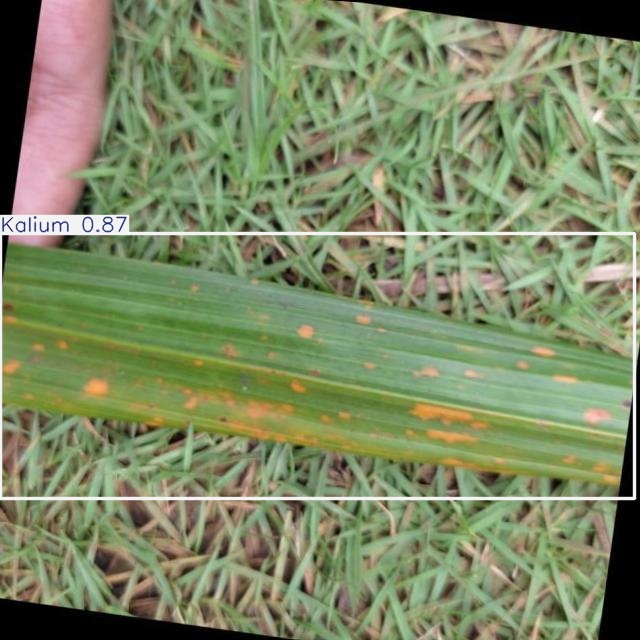Kalium: (0, 233, 634, 499)
